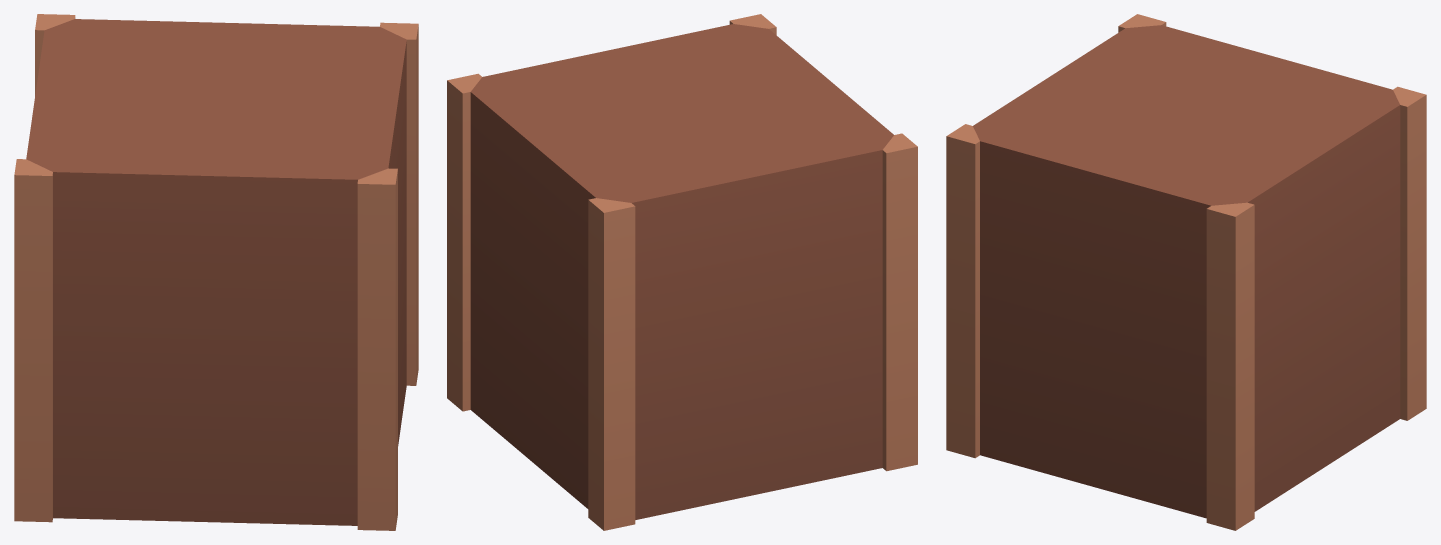
The model's file is wall-wood-block_lev1.glb.
3 views of the same model, side by side, from view 1: azimuth 30°, elevation 25°; view 2: azimuth 150°, elevation 25°; view 3: azimuth 270°, elevation 25° (orthographic). The views are drawn at different scales.
Visible parts, largest first — view 1: wall-wood-block_lev1; view 2: wall-wood-block_lev1; view 3: wall-wood-block_lev1.
Part boxes in pixels (x1,y1,x2,y2): wall-wood-block_lev1: (14, 14, 418, 530); wall-wood-block_lev1: (447, 14, 917, 530); wall-wood-block_lev1: (946, 14, 1426, 530).
Bounding box in the file's own units: 5.96 × 4.3 × 5.96.
Materials: 1 (1 with a texture image).
